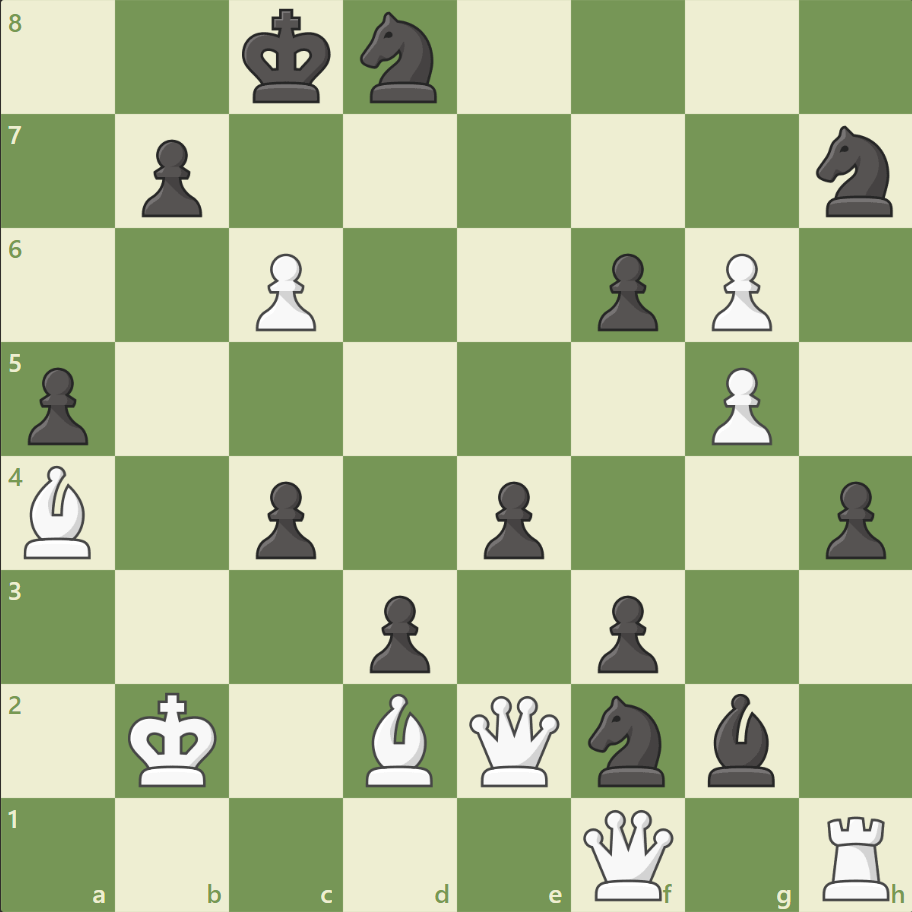B: (17, 460, 101, 563), (358, 687, 442, 790)
K: (124, 685, 224, 793)
P: (247, 246, 322, 337), (701, 246, 776, 337), (701, 359, 776, 450)
Q: (464, 690, 563, 789), (578, 804, 677, 903)
R: (814, 806, 897, 904)
b: (698, 687, 782, 790)
k: (238, 4, 338, 112)
n: (351, 7, 449, 110), (579, 688, 676, 791), (806, 121, 903, 223)
p: (133, 132, 208, 223), (20, 359, 95, 450), (247, 473, 322, 564), (474, 473, 549, 564), (588, 246, 662, 337), (815, 473, 889, 564), (361, 586, 435, 677), (588, 586, 662, 677)
